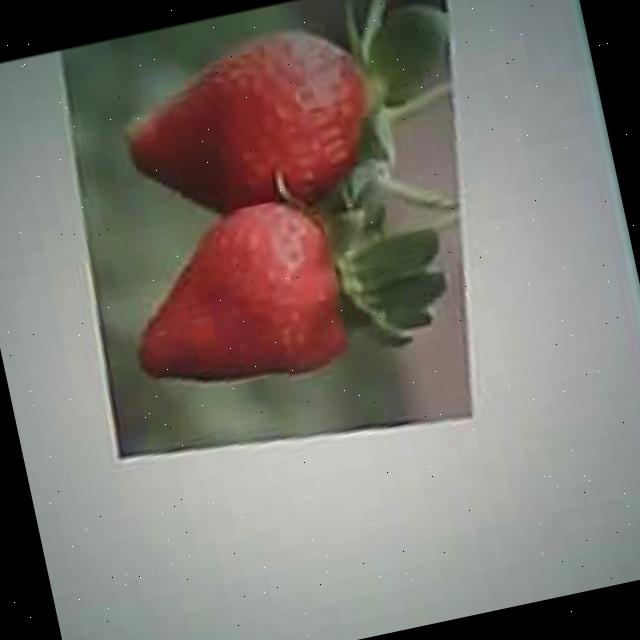strawberry: (110, 11, 394, 232), (109, 184, 370, 402)
